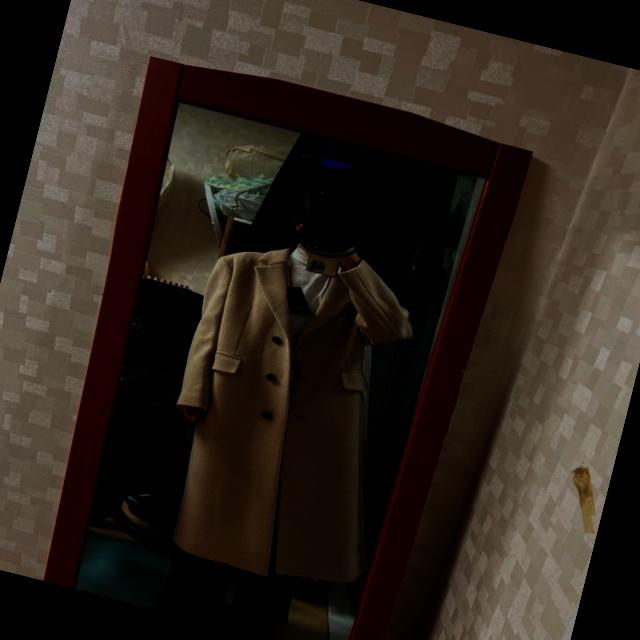coat: (142, 223, 438, 600)
slacks: (155, 542, 304, 640)
